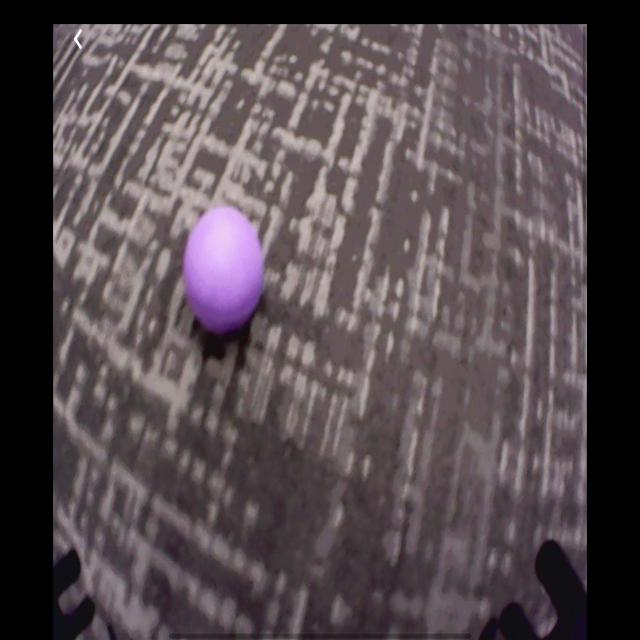ball: (183, 208, 266, 338)
